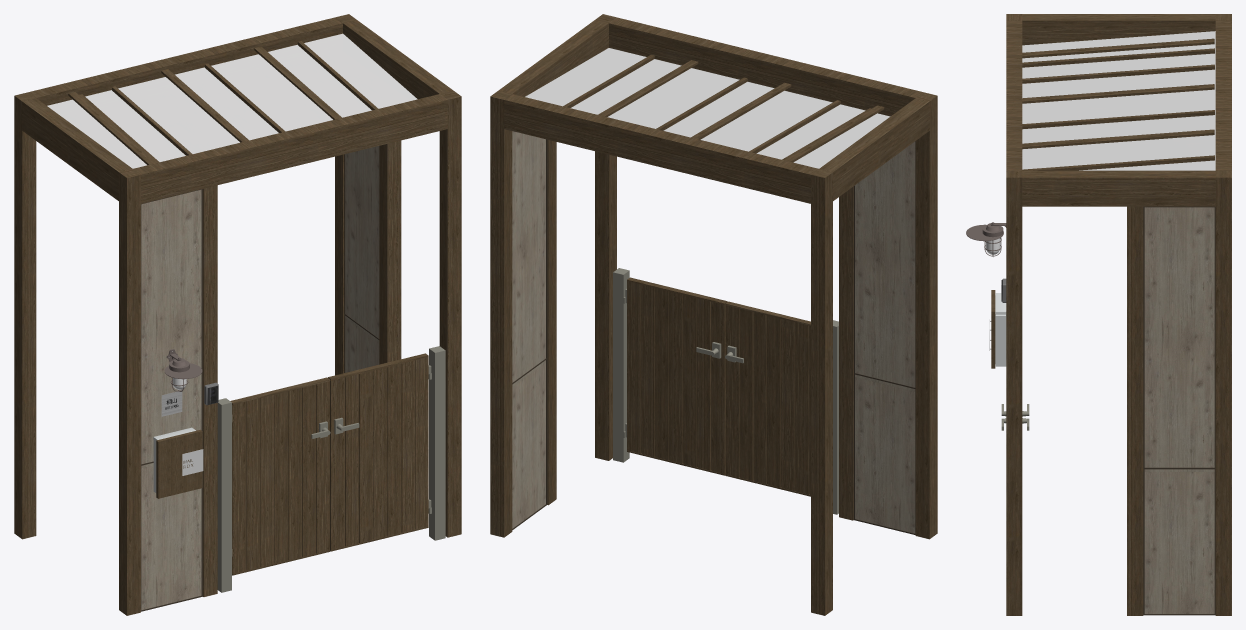
The model's file is hy1_brownebony.fbx.
3 renders of one model, left to right at view 1: azimuth 30°, elevation 25°; view 2: azimuth 150°, elevation 25°; view 3: azimuth 270°, elevation 25°, orthographic.
Visible parts, largest first — view 1: hy1-brownebony; view 2: hy1-brownebony; view 3: hy1-brownebony.
Boxes of the visible parts, x1,y1,x2,y2 form: hy1-brownebony: (14, 14, 461, 615); hy1-brownebony: (490, 14, 937, 615); hy1-brownebony: (966, 14, 1231, 615).
Bounding box in the file's own units: 240 × 300 × 165.
18 materials, 9 textured.
